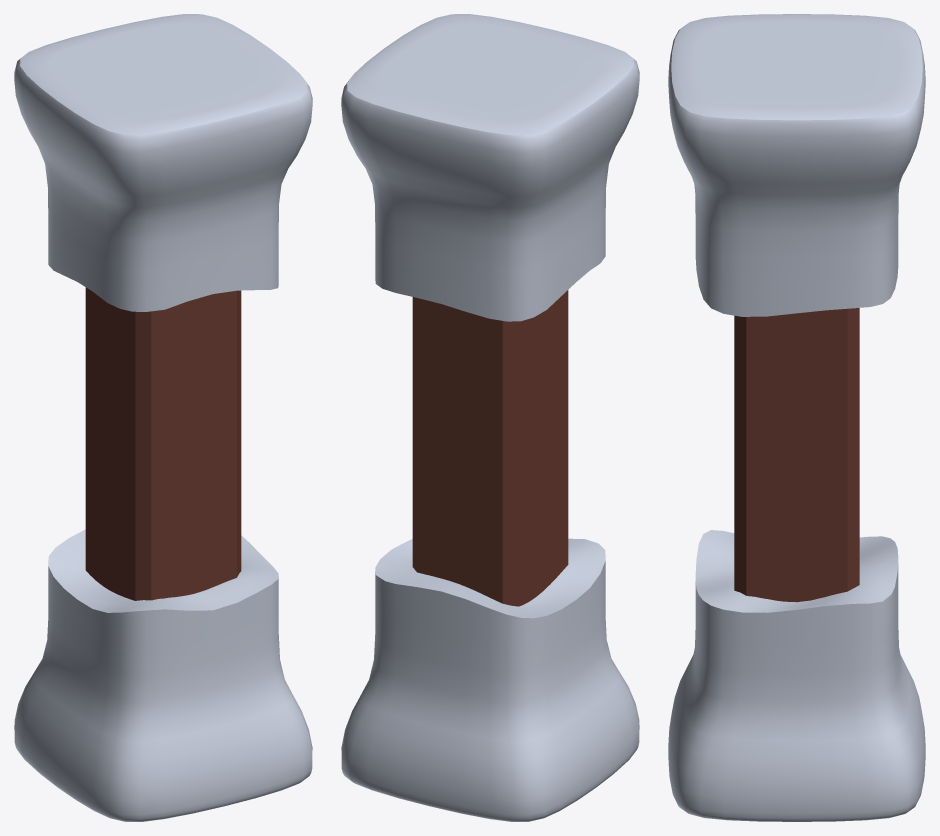
The model's file is pillar-stationary.glb.
3 renders of one model, left to right at view 1: azimuth 30°, elevation 25°; view 2: azimuth 150°, elevation 25°; view 3: azimuth 270°, elevation 25°, orthographic. The views are drawn at different scales.
Visible parts, largest first — view 1: column-exterior, column-interior; view 2: column-exterior, column-interior; view 3: column-exterior, column-interior.
Boxes of the visible parts, x1,y1,x2,y2 form: column-exterior: [14, 14, 312, 821]; column-interior: [85, 287, 241, 600]; column-exterior: [341, 14, 639, 821]; column-interior: [412, 290, 568, 606]; column-exterior: [668, 14, 925, 821]; column-interior: [734, 308, 859, 602].
Bounding box in the file's own units: 0.9938 × 3 × 0.9938.
